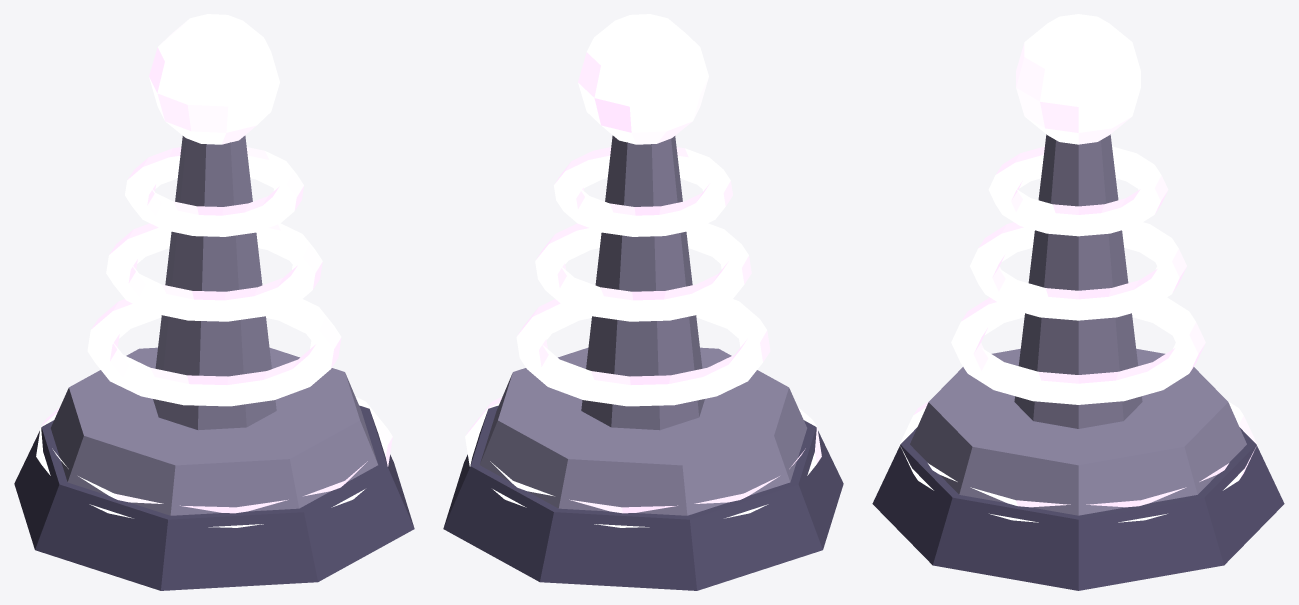
The model's file is tesla.glb.
The picture shows the model from 3 angles, left to right: view 1: azimuth 30°, elevation 25°; view 2: azimuth 150°, elevation 25°; view 3: azimuth 270°, elevation 25°; orthographic projection.
Bounding box in the file's own units: 0.88 × 1.14 × 0.88.
